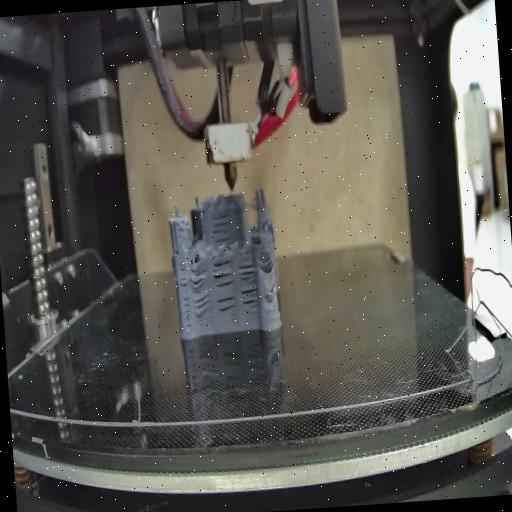cracks: (236, 256, 262, 316), (180, 265, 192, 333), (210, 209, 232, 246), (214, 260, 236, 288), (188, 268, 212, 292), (217, 294, 241, 314), (194, 296, 214, 318), (262, 252, 278, 275), (268, 283, 278, 300), (175, 241, 181, 258)
